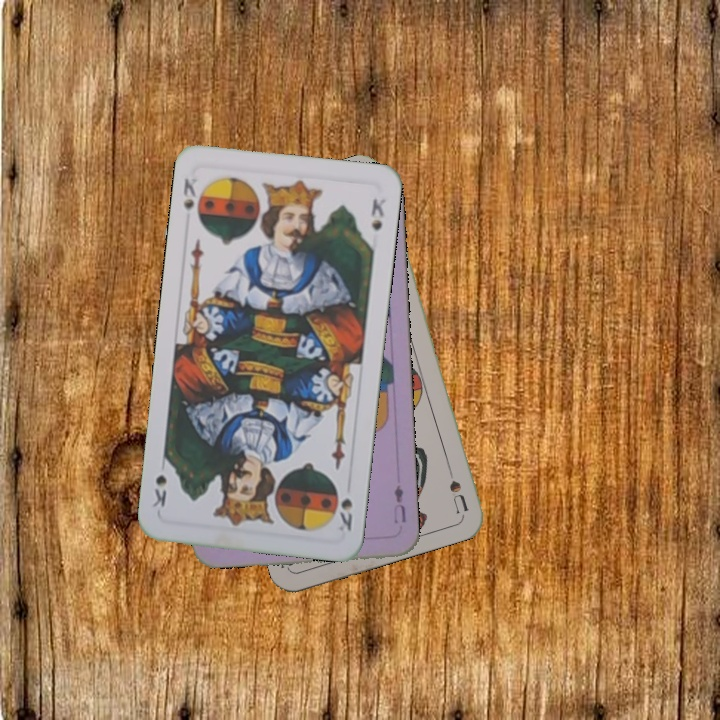EU: (390, 481, 408, 526)
SK: (179, 174, 200, 213), (335, 494, 355, 534)
SU: (442, 456, 471, 515)
